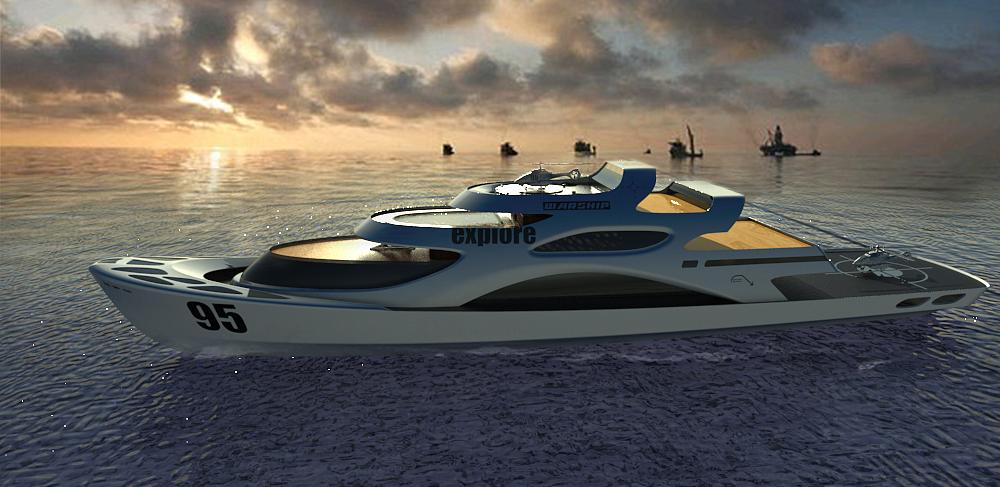yacht: (96, 149, 998, 358)
